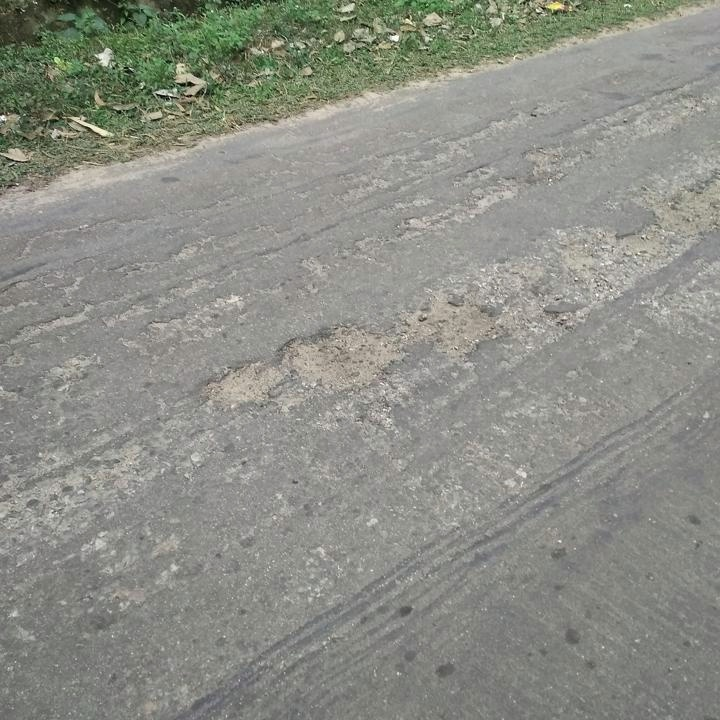pothole: (271, 317, 404, 390), (396, 291, 499, 358), (201, 356, 287, 401), (663, 163, 718, 227)
